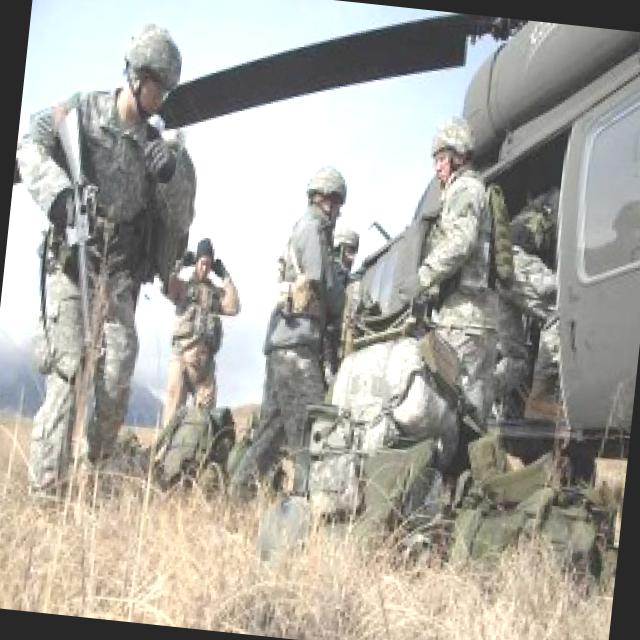long weapon: (8, 101, 165, 491)
